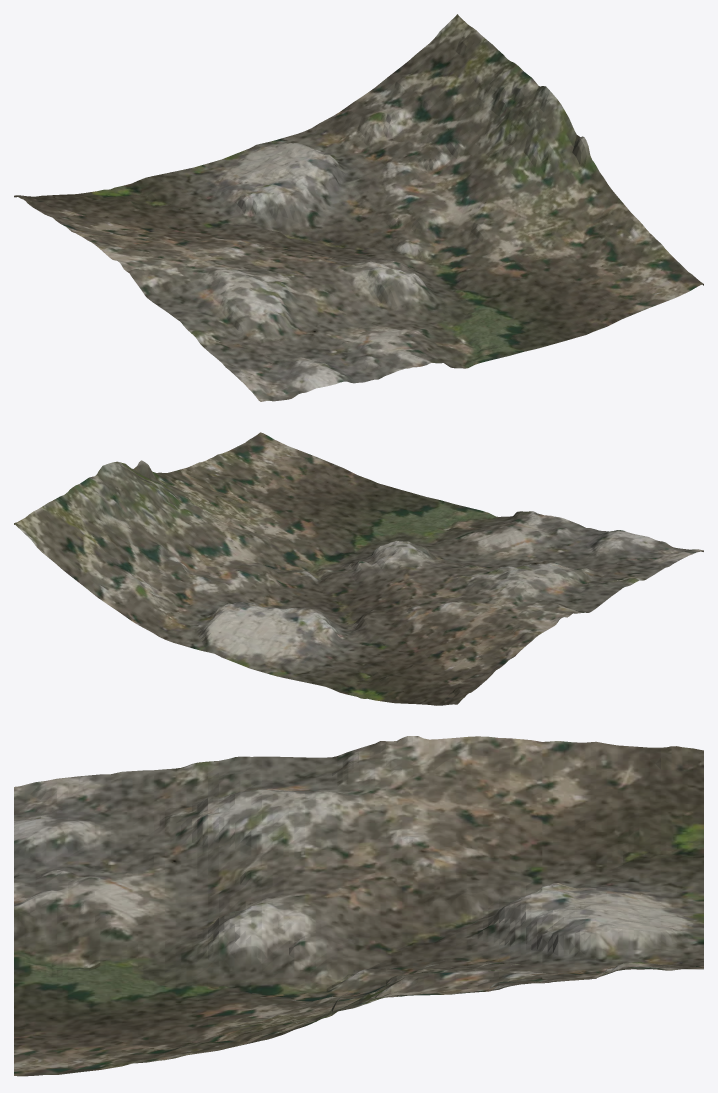
3 views of the same model, one above another, from view 1: azimuth 30°, elevation 25°; view 2: azimuth 150°, elevation 25°; view 3: azimuth 270°, elevation 25° (orthographic). The views are drawn at different scales.
Size of the model in its own units: 250 by 63.61 by 241.
Materials: 1 (1 with a texture image).
